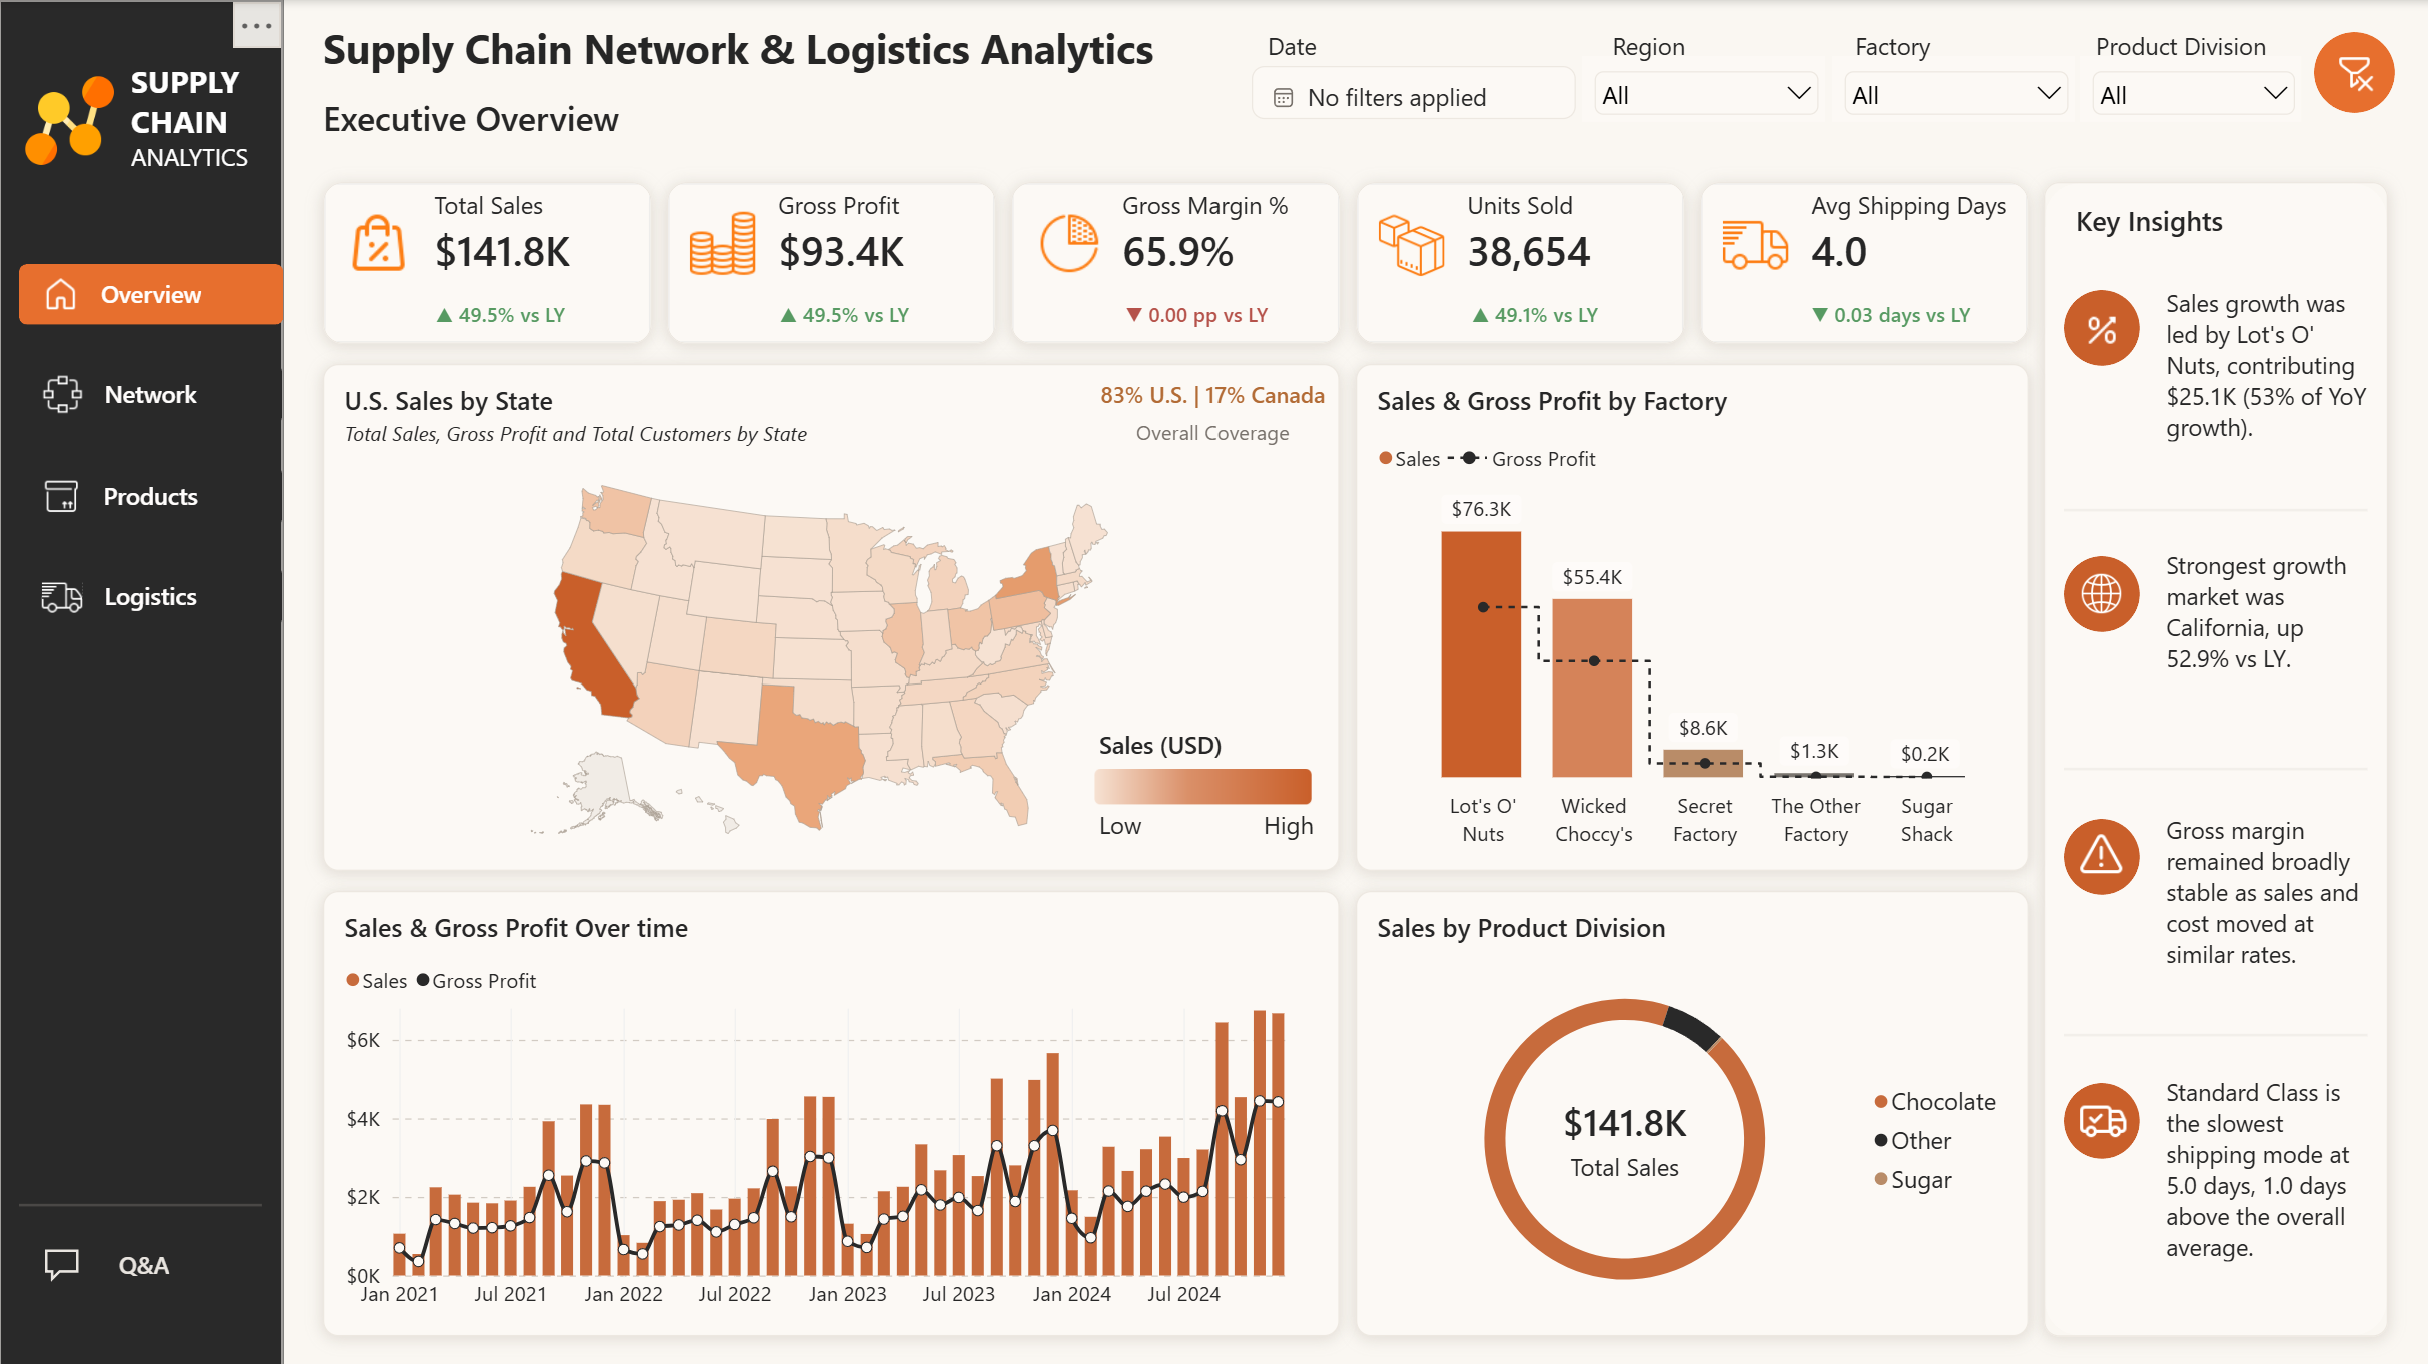

This screenshot's page, from the dashboard's own definition file:
{"tool":"powerbi","page":{"name":"Overview","canvas":[1920,1080],"ordinal":0},"visuals":[{"type":"shape","box":[1616,144,272,912],"z":0},{"type":"shapeMap","title":"U.S. Sales by State","fields":{"Value":["_Measures.Total Sales"],"Category":["vw_DimGeography.State_Province"]},"box":[256,288,803,400],"z":0,"group":"g5"},{"type":"shape","box":[0,0,225,1080],"z":1000},{"type":"textbox","box":[1000,640,48,32],"z":1000,"group":"g7"},{"type":"textbox","box":[870,640,48,32],"z":2000,"group":"g7"},{"type":"donutChart","title":"Sales by Product Division","fields":{"Category":["vw_DimProduct.Division"],"Y":["_Measures.Total Sales"]},"box":[1072,704,532,352],"z":2000},{"type":"textbox","box":[105,48,120,96],"z":3000},{"type":"textbox","box":[870,576,160,32],"z":3000,"group":"g7"},{"type":"textbox","box":[256,16,672,64],"z":4000},{"type":"slicer","title":"Date","fields":{"Values":["DimDate.Date"]},"box":[990,51,256,42],"z":4000,"group":"g1"},{"type":"slicer","title":"Date","fields":{"Values":["vw_FactSales.Country_Region","vw_FactSales.State_Province"]},"box":[1251,44,192,52],"z":5000,"group":"g2"},{"type":"slicer","title":"Date","fields":{"Values":["vw_DimFactory.Factory"]},"box":[1448,44,192,52],"z":5000,"group":"g3"},{"type":"slicer","title":"Date","fields":{"Values":["vw_DimProduct.Division"]},"box":[1645,44,175,52],"z":5000,"group":"g4"},{"type":"textbox","box":[256,74,256,48],"z":5000},{"type":"image","box":[16,56,80,80],"z":6000},{"type":"actionButton","box":[16,208,209,48],"z":7000},{"type":"actionButton","box":[16,288,208,48],"z":8000},{"type":"actionButton","box":[16,368,208,48],"z":9000},{"type":"actionButton","box":[16,448,208,48],"z":10000},{"type":"group","id":"g1","title":"Group 1","box":[990,23,256,70],"z":11000},{"type":"actionButton","box":[32,976,115,48],"z":12000},{"type":"shape","box":[16.2,944,192,16],"z":13000},{"type":"group","id":"g2","title":"Group 2","box":[1251,23,192,73],"z":14000},{"type":"textbox","box":[990,23,64,32],"z":14001,"group":"g1"},{"type":"group","id":"g3","title":"Group 2","box":[1448,23,192,73],"z":15000},{"type":"textbox","box":[1256,23,96,30.4],"z":16000,"group":"g2"},{"type":"textbox","box":[1448,23,96,30.4],"z":16000,"group":"g3"},{"type":"group","id":"g4","title":"Group 2","box":[1645,23,175,73],"z":16000},{"type":"textbox","box":[1645,23,160,32],"z":16000,"group":"g4"},{"type":"actionButton","box":[1830,25,64,64],"z":17000},{"type":"cardVisual","fields":{"Data":["_Measures.Total Sales"]},"box":[256,144,260,128],"z":18000},{"type":"cardVisual","fields":{"Data":["_Measures.Gross Profit"]},"box":[528,144,260,128],"z":19000},{"type":"cardVisual","fields":{"Data":["_Measures.Gross Margin %"]},"box":[800,144,260,128],"z":20000},{"type":"cardVisual","fields":{"Data":["_Measures.Units Sold"]},"box":[1072,144,260,128],"z":21000},{"type":"cardVisual","fields":{"Data":["_Measures.Avg Shipping Days"]},"box":[1344,144,260,128],"z":22000},{"type":"lineClusteredColumnComboChart","title":"Sales & Gross Profit Over time","fields":{"Category":["DimDate.MonthYear"],"Y":["_Measures.Total Sales"],"Y2":["_Measures.Gross Profit"]},"box":[256,704,803,352],"z":23000},{"type":"lineClusteredColumnComboChart","title":"Sales & Gross Profit by Factory","fields":{"Category":["vw_DimProduct.Factory"],"Y":["_Measures.Total Sales"],"Y2":["_Measures.Gross Profit"]},"box":[1072,288,532,400],"z":24000},{"type":"group","id":"g5","title":"Group 5","box":[256,288,803,400],"z":25000},{"type":"textbox","title":"Key Insights","box":[1641,160,160,32],"z":26000},{"type":"group","id":"g6","title":"Group 4","box":[848,576,208,96],"z":26000,"group":"g5"},{"type":"image","box":[848,608,208,28],"z":26000,"group":"g6"},{"type":"group","id":"g7","title":"Group 3","box":[870,576,178,96],"z":26506,"group":"g6"},{"type":"shape","box":[1632,230,60,60],"z":27000},{"type":"shape","box":[1632,855,60,60],"z":28000},{"type":"shape","box":[1632,647,60,60],"z":29000},{"type":"shape","box":[1632,439,60,60],"z":30000},{"type":"cardVisual","fields":{"Data":["_Measures.Sales Growth Driver Insight"]},"box":[1696,224,176,200],"z":31000},{"type":"image","box":[1646,245,32,32],"z":32000},{"type":"cardVisual","fields":{"Data":["_Measures.Top Growth State Insight"]},"box":[1696,432,176,200],"z":33000},{"type":"cardVisual","fields":{"Data":["_Measures.Margin Driver Insight"]},"box":[1696,640,176,200],"z":34000},{"type":"cardVisual","fields":{"Data":["_Measures.Shipping Driver Insight"]},"box":[1696,848,176,200],"z":35000},{"type":"image","box":[1645,452,34,34],"z":36000},{"type":"image","box":[1642,655,40,40],"z":37000},{"type":"image","box":[1643,865,40,40],"z":38000},{"type":"shape","box":[1632,395,240,16],"z":39000},{"type":"shape","box":[1632,600,240,16],"z":40000},{"type":"shape","box":[1632,810,240,16],"z":41000},{"type":"card","title":"Overall","fields":{"Values":["_Measures.States Provinces Coverage Reference"]},"box":[864,298,192,55],"z":41501}]}

Visuals, with their boxes on the page's 1920x1080 design canvas (x1, y1, x2, y2). These are canvas units, not pixel positions in the 2428x1364 screenshot, which may show the page scaled, cropped or inside an application window:
shape: box=[1616, 144, 1888, 1056]
"U.S. Sales by State" shapeMap: box=[256, 288, 1059, 688]
shape: box=[0, 0, 225, 1080]
textbox: box=[1000, 640, 1048, 672]
textbox: box=[870, 640, 918, 672]
"Sales by Product Division" donutChart: box=[1072, 704, 1604, 1056]
textbox: box=[105, 48, 225, 144]
textbox: box=[870, 576, 1030, 608]
textbox: box=[256, 16, 928, 80]
"Date" slicer: box=[990, 51, 1246, 93]
"Date" slicer: box=[1251, 44, 1443, 96]
"Date" slicer: box=[1448, 44, 1640, 96]
"Date" slicer: box=[1645, 44, 1820, 96]
textbox: box=[256, 74, 512, 122]
image: box=[16, 56, 96, 136]
actionButton: box=[16, 208, 225, 256]
actionButton: box=[16, 288, 224, 336]
actionButton: box=[16, 368, 224, 416]
actionButton: box=[16, 448, 224, 496]
"Group 1" group: box=[990, 23, 1246, 93]
actionButton: box=[32, 976, 147, 1024]
shape: box=[16, 944, 208, 960]
"Group 2" group: box=[1251, 23, 1443, 96]
textbox: box=[990, 23, 1054, 55]
"Group 2" group: box=[1448, 23, 1640, 96]
textbox: box=[1256, 23, 1352, 53]
textbox: box=[1448, 23, 1544, 53]
"Group 2" group: box=[1645, 23, 1820, 96]
textbox: box=[1645, 23, 1805, 55]
actionButton: box=[1830, 25, 1894, 89]
cardVisual - _Measures.Total Sales: box=[256, 144, 516, 272]
cardVisual - _Measures.Gross Profit: box=[528, 144, 788, 272]
cardVisual - _Measures.Gross Margin %: box=[800, 144, 1060, 272]
cardVisual - _Measures.Units Sold: box=[1072, 144, 1332, 272]
cardVisual - _Measures.Avg Shipping Days: box=[1344, 144, 1604, 272]
"Sales & Gross Profit Over time" lineClusteredColumnComboChart: box=[256, 704, 1059, 1056]
"Sales & Gross Profit by Factory" lineClusteredColumnComboChart: box=[1072, 288, 1604, 688]
"Group 5" group: box=[256, 288, 1059, 688]
"Key Insights" textbox: box=[1641, 160, 1801, 192]
"Group 4" group: box=[848, 576, 1056, 672]
image: box=[848, 608, 1056, 636]
"Group 3" group: box=[870, 576, 1048, 672]
shape: box=[1632, 230, 1692, 290]
shape: box=[1632, 855, 1692, 915]
shape: box=[1632, 647, 1692, 707]
shape: box=[1632, 439, 1692, 499]
cardVisual - _Measures.Sales Growth Driver Insight: box=[1696, 224, 1872, 424]
image: box=[1646, 245, 1678, 277]
cardVisual - _Measures.Top Growth State Insight: box=[1696, 432, 1872, 632]
cardVisual - _Measures.Margin Driver Insight: box=[1696, 640, 1872, 840]
cardVisual - _Measures.Shipping Driver Insight: box=[1696, 848, 1872, 1048]
image: box=[1645, 452, 1679, 486]
image: box=[1642, 655, 1682, 695]
image: box=[1643, 865, 1683, 905]
shape: box=[1632, 395, 1872, 411]
shape: box=[1632, 600, 1872, 616]
shape: box=[1632, 810, 1872, 826]
"Overall" card: box=[864, 298, 1056, 353]
